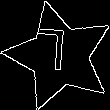L_S: (41, 30, 77, 83)
